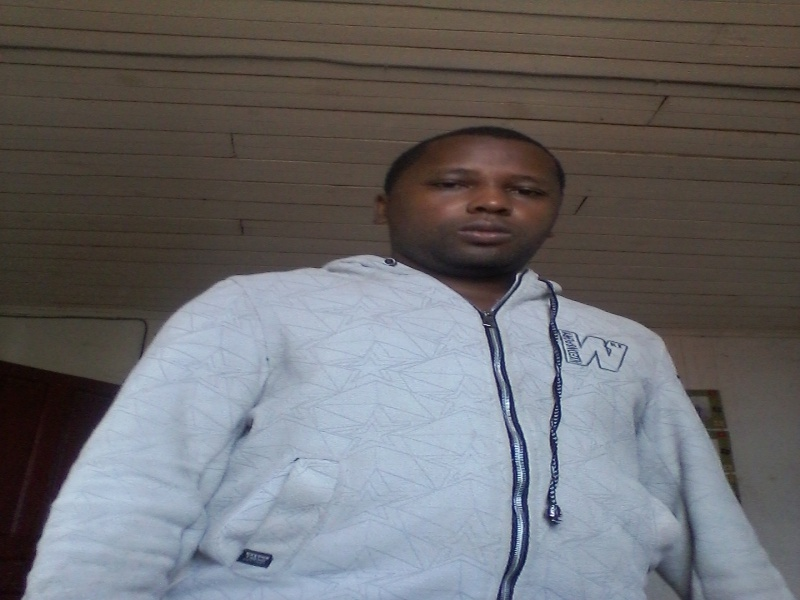TsisyArotava: (373, 111, 587, 304)
